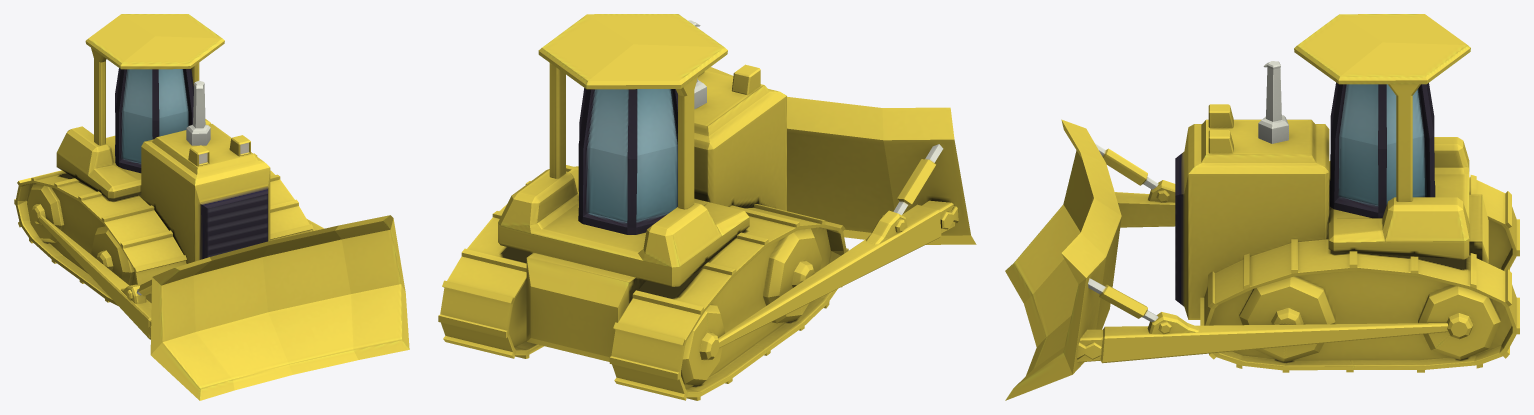
File: excavator.glb
3 renders of one model, left to right at view 1: azimuth 30°, elevation 25°; view 2: azimuth 150°, elevation 25°; view 3: azimuth 270°, elevation 25°, orthographic. The views are drawn at different scales.
Parts seen in each view (by area): view 1: Bulldozer_mesh; view 2: Bulldozer_mesh; view 3: Bulldozer_mesh.
Part boxes in pixels (box(x1,y1,x2,y2)): Bulldozer_mesh: box(14, 14, 409, 400); Bulldozer_mesh: box(438, 14, 976, 400); Bulldozer_mesh: box(1005, 14, 1519, 400).
Bounding box in the file's own units: 12.85 × 11.52 × 17.68.
Materials: 1 (1 with a texture image).
